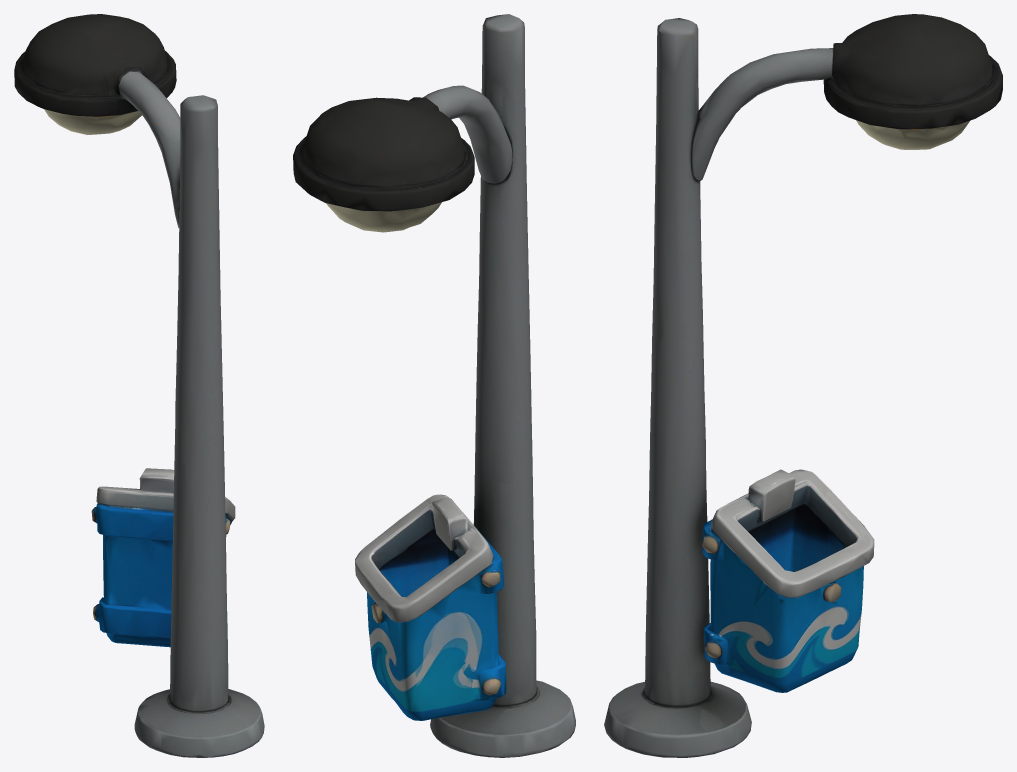
File: CenarioPoste.glb
3 views of the same model, side by side, from view 1: azimuth 30°, elevation 25°; view 2: azimuth 150°, elevation 25°; view 3: azimuth 270°, elevation 25° (orthographic). The views are drawn at different scales.
Visible parts, largest first — view 1: tripo_node_812c10f4-2a90-4852-a0e7-6a5a26130b4c; view 2: tripo_node_812c10f4-2a90-4852-a0e7-6a5a26130b4c; view 3: tripo_node_812c10f4-2a90-4852-a0e7-6a5a26130b4c.
Part boxes in pixels (x1,y1,x2,y2): tripo_node_812c10f4-2a90-4852-a0e7-6a5a26130b4c: (14, 14, 264, 757); tripo_node_812c10f4-2a90-4852-a0e7-6a5a26130b4c: (293, 14, 575, 757); tripo_node_812c10f4-2a90-4852-a0e7-6a5a26130b4c: (604, 14, 1002, 757).
Size of the model in its own units: 0.3001 by 1.2 by 0.6153.
Materials: 1 (1 with a texture image).
